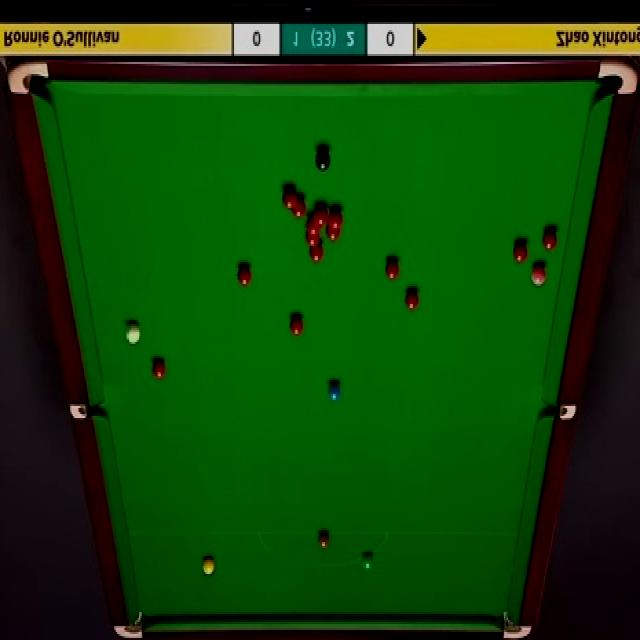black-ball: (315, 144, 331, 174)
blue-ball: (327, 382, 342, 403)
brown-ball: (317, 530, 330, 550)
green-ball: (361, 551, 374, 571)
pink-ball: (531, 262, 547, 288)
red-ball: (236, 261, 253, 288), (281, 185, 298, 209), (542, 228, 559, 251), (292, 192, 308, 216), (514, 240, 530, 264), (328, 205, 343, 230), (384, 256, 399, 280), (405, 288, 420, 312), (150, 359, 166, 381), (289, 314, 304, 336), (314, 205, 328, 227), (308, 246, 324, 263), (306, 216, 320, 234), (306, 232, 320, 248), (326, 227, 340, 240)
white-ball: (122, 320, 142, 346)
yellow-ball: (203, 554, 216, 575)
